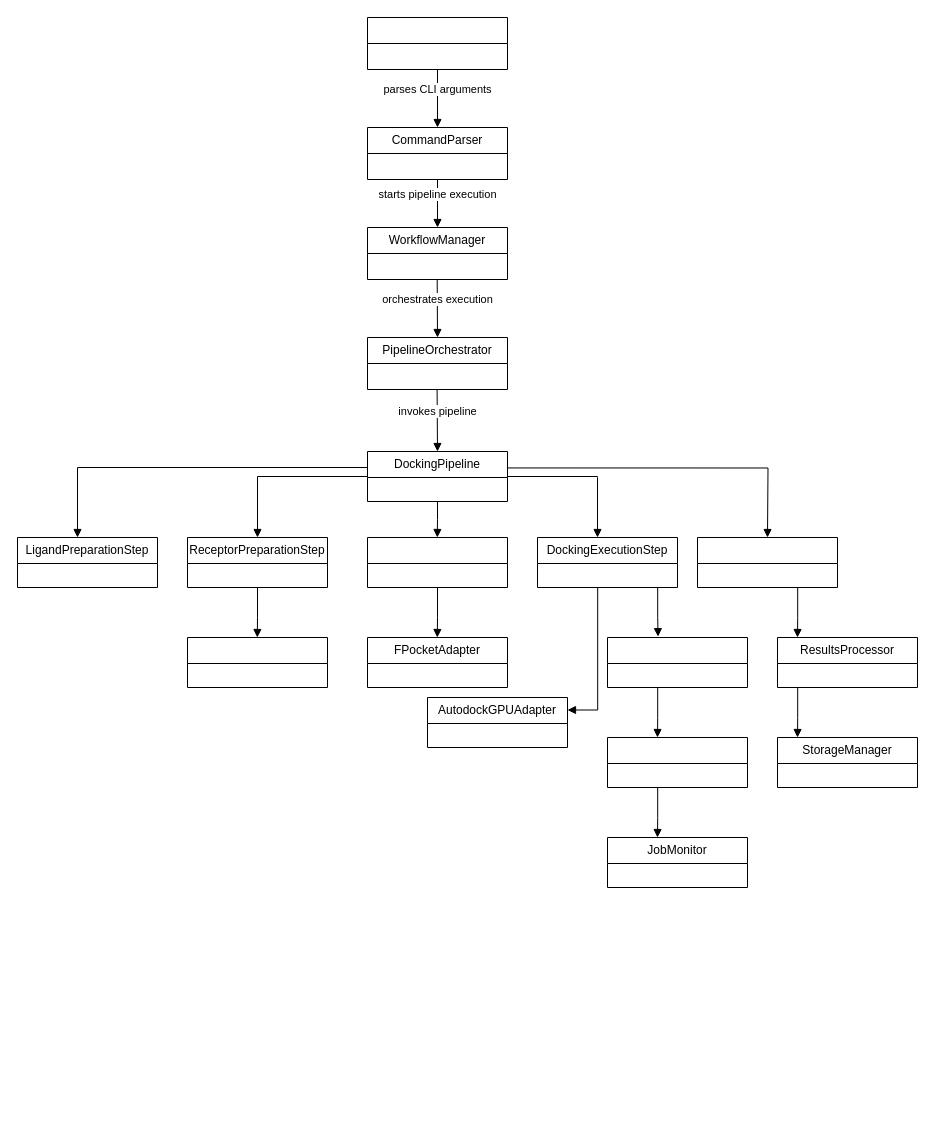
Some shapes in this 935 by 1123 pixel diagram are drawn without their labels. Here are the shapes that lost their labels. From the top down, the box of each, then its label:
(366, 16, 508, 70): CLI
(366, 536, 508, 588): ActiveSiteDetectionStep
(696, 536, 838, 588): DockingAnalysisStep
(186, 636, 328, 688): AutodockToolsAdapter
(606, 636, 748, 688): SlurmBuilder
(606, 736, 748, 788): SlurmSubmitter
